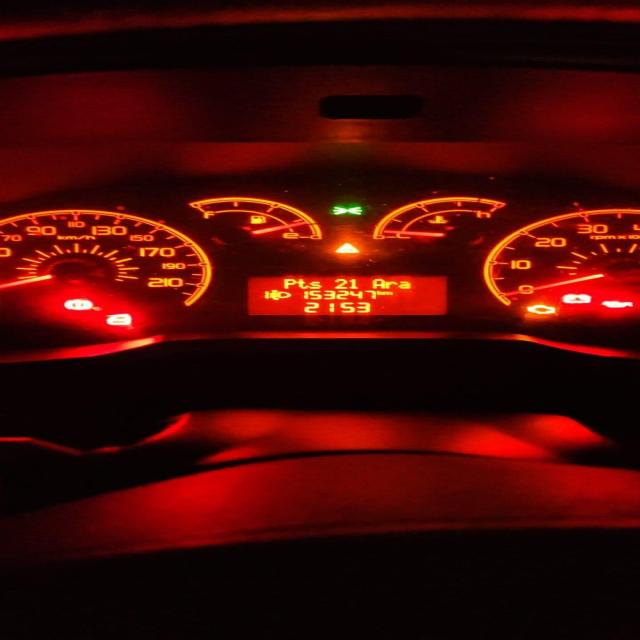odometer: (244, 273, 450, 316)
